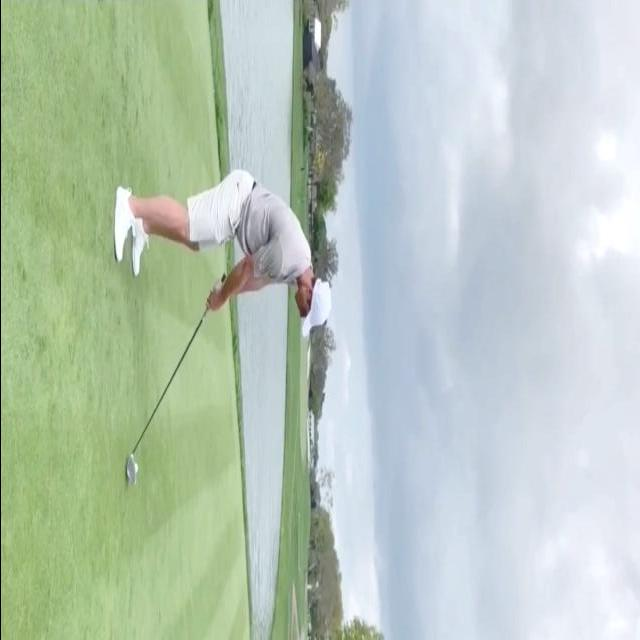golf ball: (132, 463, 137, 474)
golf club-handle: (123, 277, 226, 486)
golf club-head: (125, 451, 135, 483)
